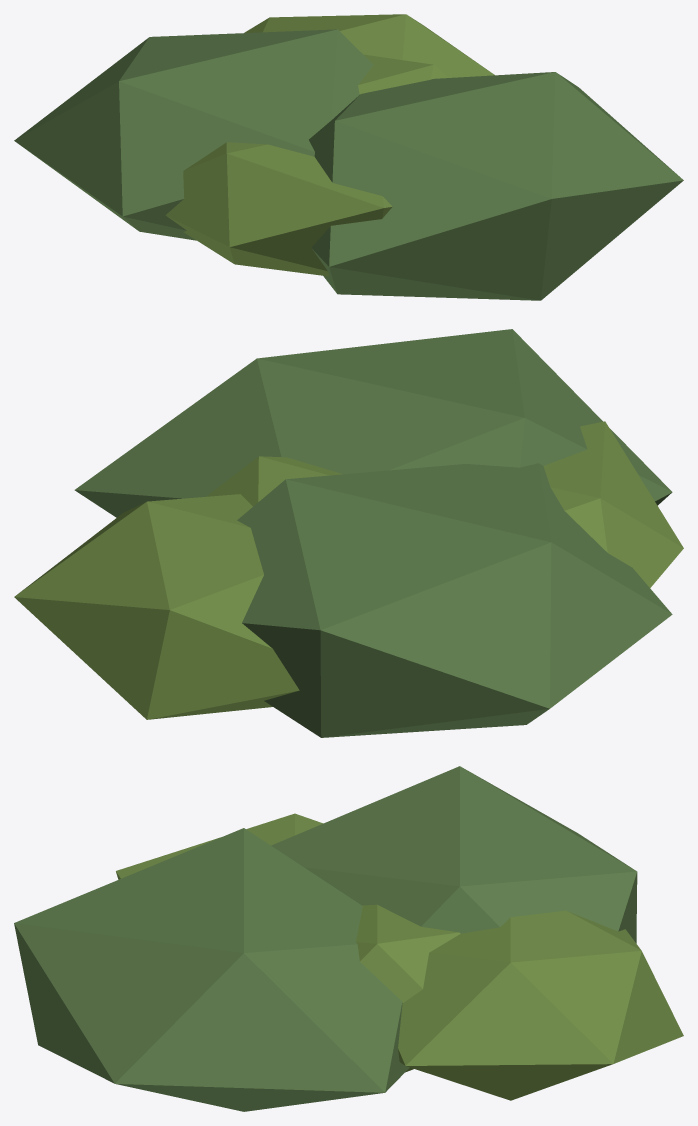
Rendered from moss-clump-3.glb.
3 views of the same model, one above another, from view 1: azimuth 30°, elevation 25°; view 2: azimuth 150°, elevation 25°; view 3: azimuth 270°, elevation 25° (orthographic). The views are drawn at different scales.
Parts seen in each view (by area): view 1: moss_clump_3; view 2: moss_clump_3; view 3: moss_clump_3.
Boxes of the visible parts, bbox=[...] form: moss_clump_3: bbox=[14, 14, 683, 300]; moss_clump_3: bbox=[14, 329, 683, 737]; moss_clump_3: bbox=[14, 766, 683, 1111].
Size of the model in its own units: 0.5257 by 0.1829 by 0.5732.
